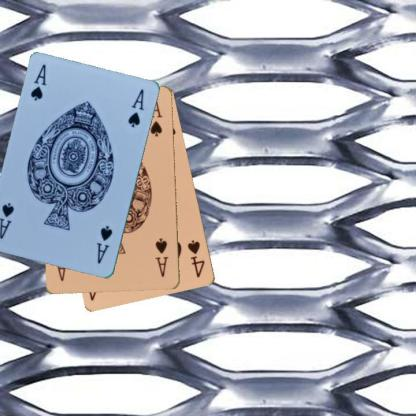4s: (185, 238, 206, 279)
As: (28, 62, 48, 103), (95, 224, 114, 265), (153, 236, 169, 278)
